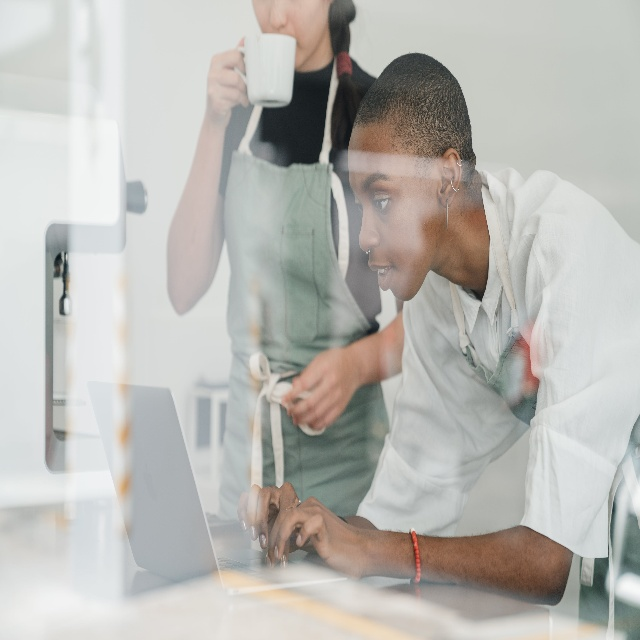Sin_guantes: (267, 494, 365, 578), (281, 353, 356, 443), (238, 480, 299, 568), (207, 35, 251, 125)
